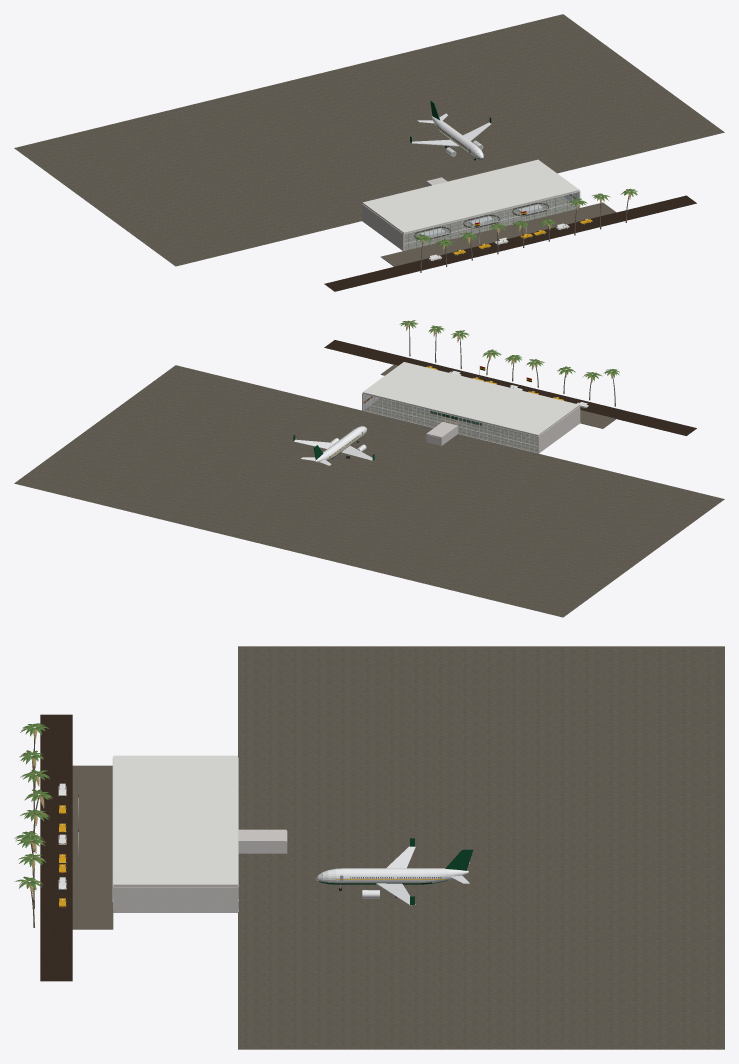
Rendered from kotoka-arrivals.v1.glb.
The picture shows the model from 3 angles, top to bottom: view 1: azimuth 30°, elevation 25°; view 2: azimuth 150°, elevation 25°; view 3: azimuth 270°, elevation 25°; orthographic projection. The views are drawn at different scales.
Parts seen in each view (by area): view 1: apron, floors, forecourt, glass, airliner, mullions, ends; view 2: apron, floors, forecourt, glass.001, mullions.001, airliner, ends, corridor; view 3: apron, floors, forecourt, airliner, ends, corridor.
Part boxes in pixels (x1,y1,x2,y2): apron: (14, 14, 724, 266); floors: (362, 159, 579, 250); forecourt: (324, 195, 696, 291); glass: (404, 192, 579, 250); airliner: (410, 100, 491, 160); mullions: (404, 191, 579, 250); ends: (362, 191, 580, 250); apron: (14, 365, 724, 617); floors: (362, 362, 579, 452); forecourt: (324, 340, 696, 435); glass.001: (362, 394, 537, 452); mullions.001: (362, 393, 538, 453); airliner: (293, 426, 374, 465); ends: (362, 393, 580, 453); corridor: (426, 422, 457, 445); apron: (238, 646, 724, 1049); floors: (113, 755, 237, 886); forecourt: (40, 714, 113, 981); airliner: (316, 838, 473, 905); ends: (113, 887, 237, 912); corridor: (238, 829, 287, 853).
Size of what is drawn, in the model's own units: 235 by 14.35 by 175.
Materials: 40 (9 with a texture image).
